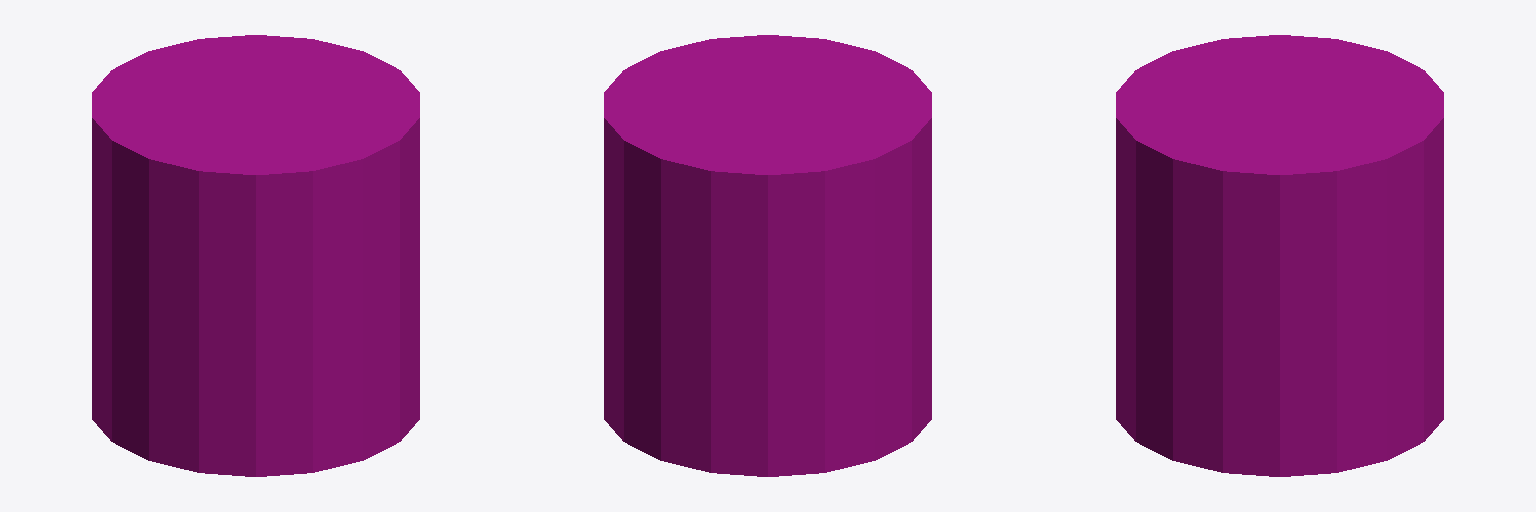
The model's file is enviroment.obj.
3 renders of one model, left to right at view 1: azimuth 30°, elevation 25°; view 2: azimuth 150°, elevation 25°; view 3: azimuth 270°, elevation 25°, orthographic.
Parts seen in each view (by area): view 1: Cylinder001; view 2: Cylinder001; view 3: Cylinder001.
Boxes of the visible parts, <box> form: Cylinder001: <box>92,35,419,476</box>; Cylinder001: <box>604,35,931,476</box>; Cylinder001: <box>1116,35,1443,476</box>.
Bounding box in the file's own units: 20 × 20 × 19.7.